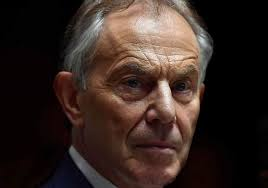middle_eastern_male: (74, 11, 203, 177)
